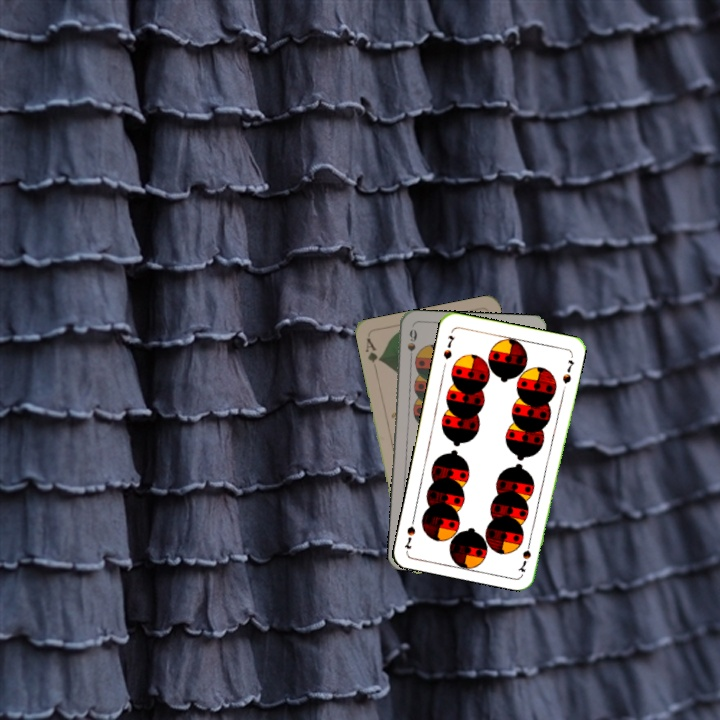GA: (361, 334, 384, 374)
S7: (516, 535, 534, 575), (439, 331, 457, 362)
S9: (403, 325, 420, 365)
